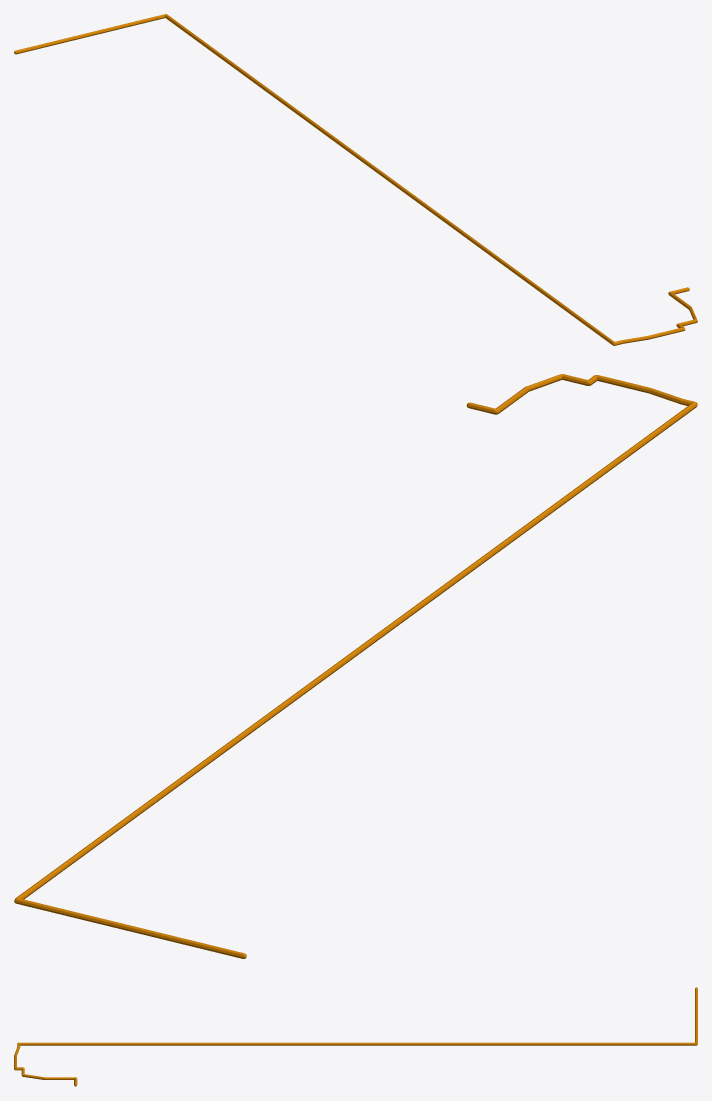
3 views of the same model, one above another, from view 1: azimuth 30°, elevation 25°; view 2: azimuth 150°, elevation 25°; view 3: azimuth 270°, elevation 25° (orthographic). The views are drawn at different scales.
Bounding box in the file's own units: 1501 × 20 × 4441.
